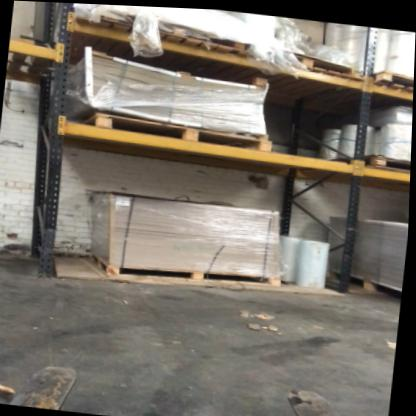vertical_damage: (43, 212, 68, 246)
